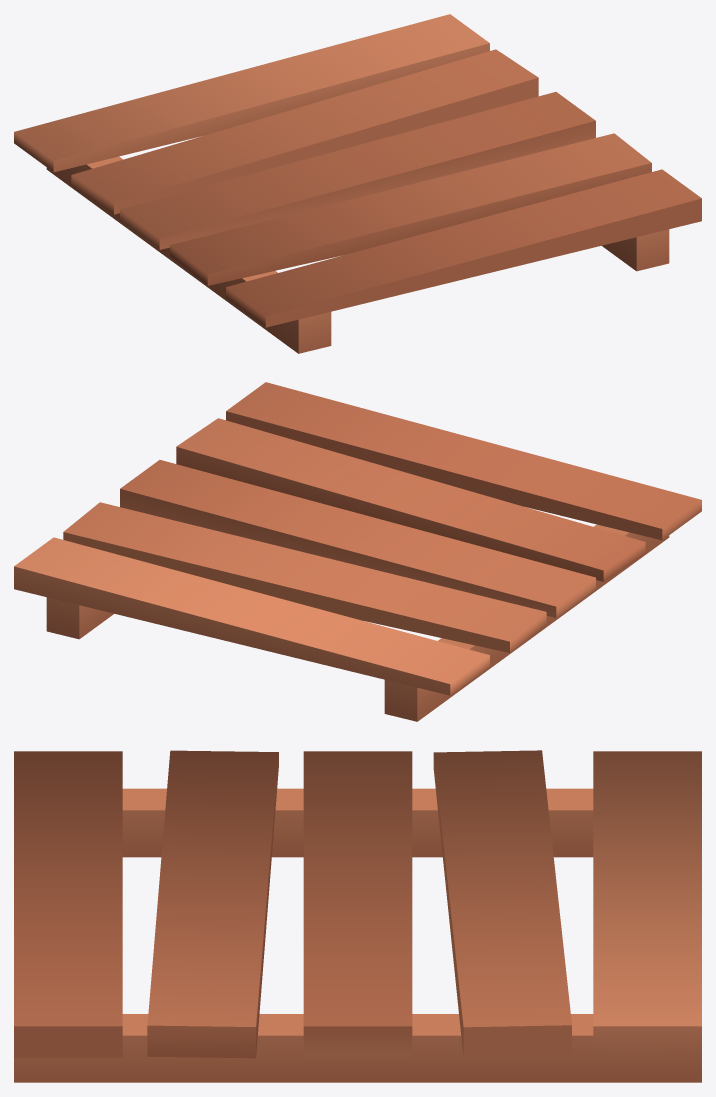
The model's file is template-floor-layer.glb.
3 renders of one model, top to bottom at view 1: azimuth 30°, elevation 25°; view 2: azimuth 150°, elevation 25°; view 3: azimuth 270°, elevation 25°, orthographic. The views are drawn at different scales.
Visible parts, largest first — view 1: template-floor-layer; view 2: template-floor-layer; view 3: template-floor-layer.
Boxes of the visible parts, left/top/right/bottom form: template-floor-layer: left=14, top=14, right=701, bottom=353; template-floor-layer: left=14, top=382, right=701, bottom=721; template-floor-layer: left=14, top=750, right=701, bottom=1082.
Size of the model in its own units: 4.02 by 0.5 by 4.
